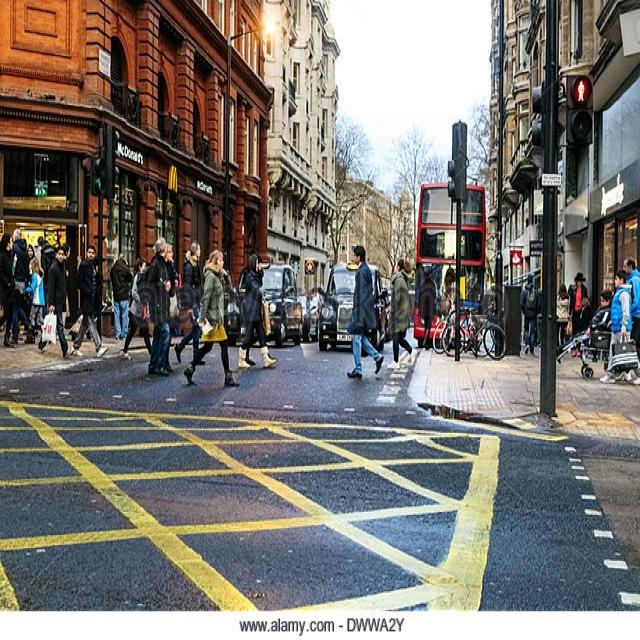body: (181, 248, 241, 388), (344, 243, 385, 380), (135, 236, 173, 378), (597, 267, 639, 387), (67, 244, 109, 360), (236, 253, 277, 371), (37, 244, 76, 360), (173, 237, 207, 368), (555, 288, 613, 361), (240, 253, 276, 367), (384, 258, 417, 370), (120, 256, 153, 362), (18, 256, 47, 347), (109, 250, 134, 341), (518, 272, 543, 356), (161, 243, 182, 339), (0, 230, 17, 348), (622, 255, 640, 358), (417, 264, 438, 350), (25, 232, 56, 290), (438, 265, 458, 351), (567, 270, 589, 340), (555, 282, 570, 348), (578, 295, 591, 359), (11, 226, 22, 274)
